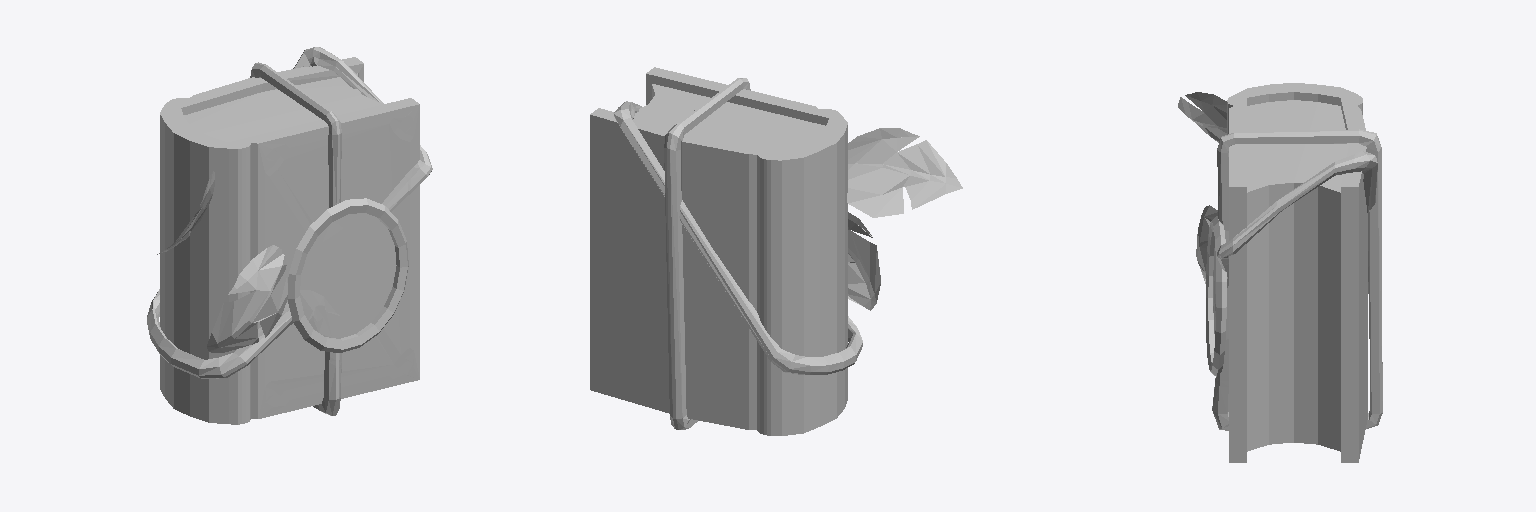
Rendered from book.obj.
3 renders of one model, left to right at view 1: azimuth 30°, elevation 25°; view 2: azimuth 150°, elevation 25°; view 3: azimuth 270°, elevation 25°, orthographic.
Bounding box in the file's own units: 0.3614 × 0.3551 × 0.2163.